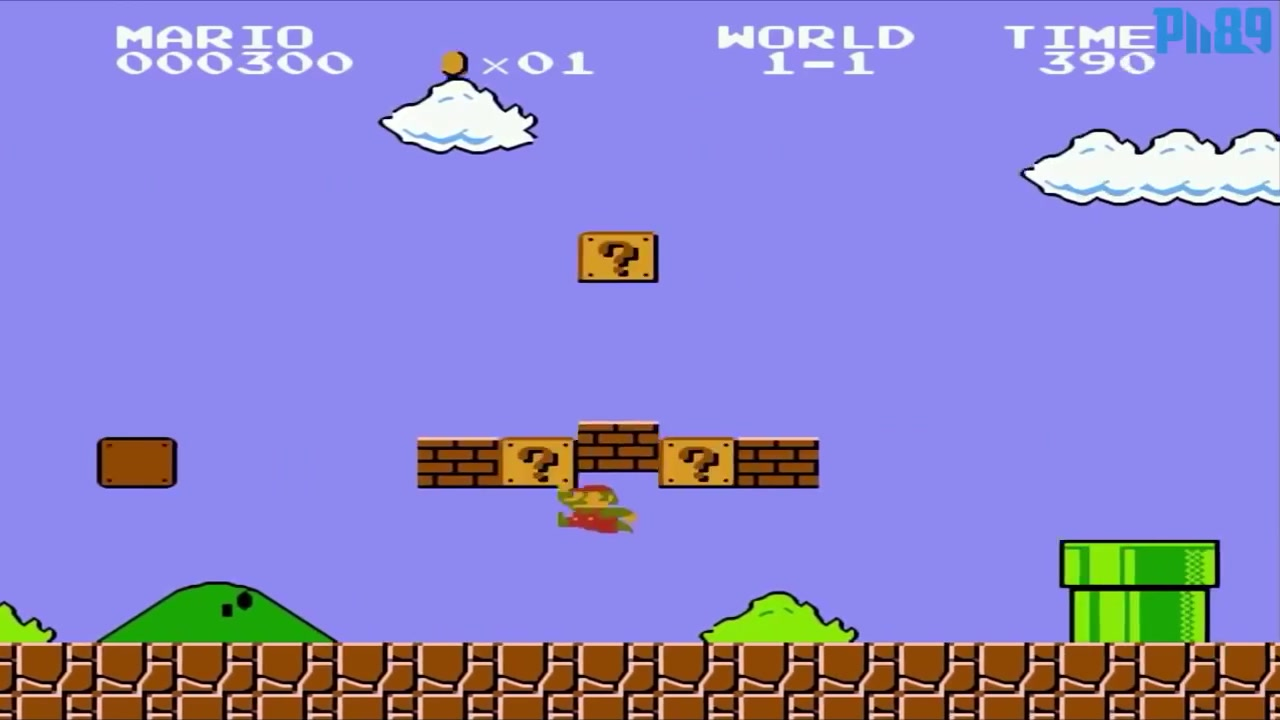mario: (554, 480, 637, 544)
